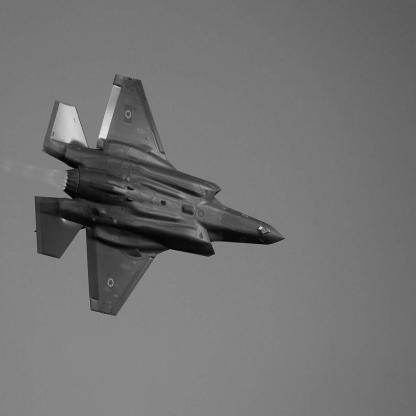F35: (35, 75, 287, 318)
